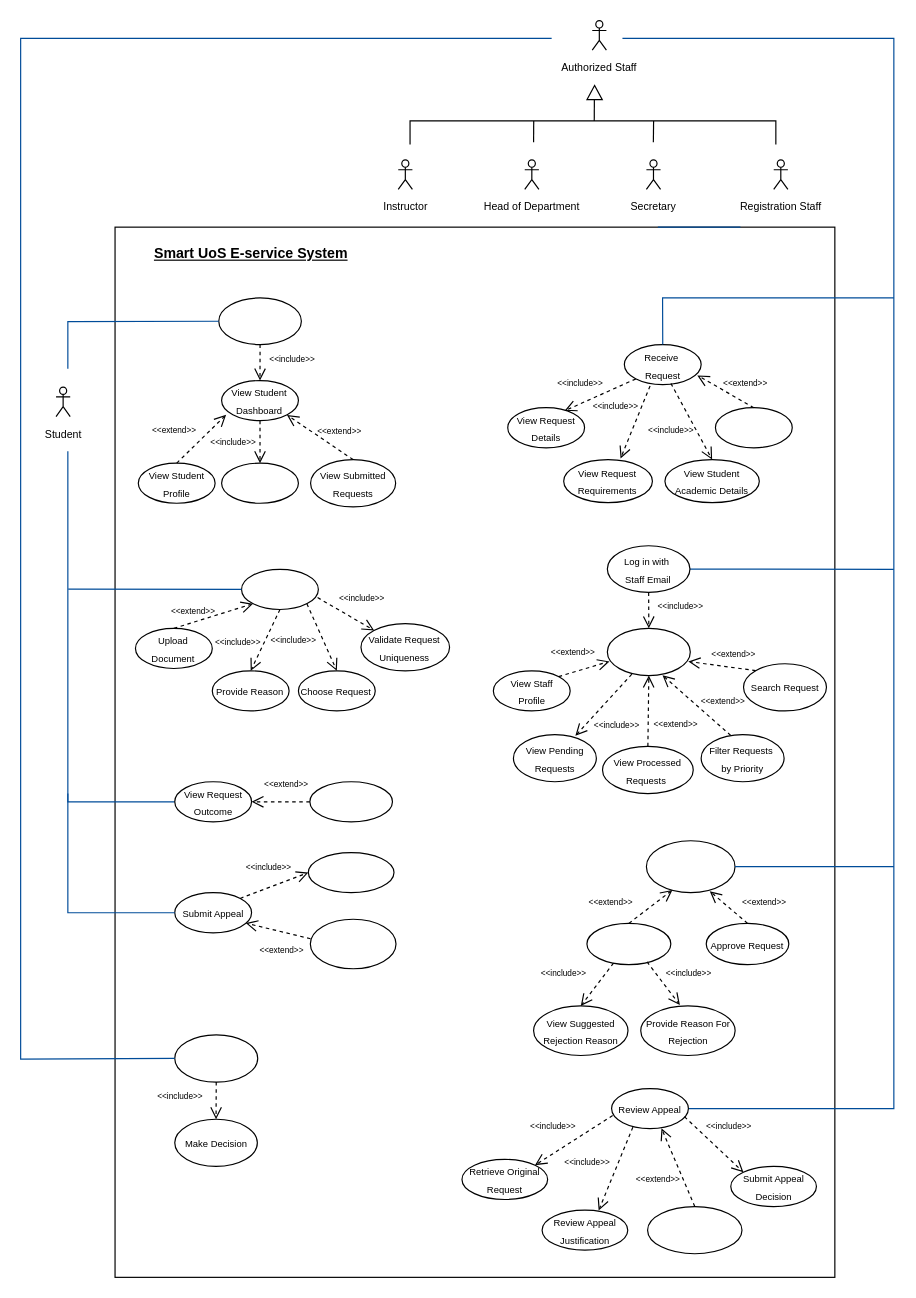
This 916x1298 diagram has some shape labels left out. The shapes that lost their labels are listed below. From the top down, each one's box as (x1, y1, x2, y2) in pixels, then its label:
(218, 297, 301, 345): Log in with Student Email
(714, 407, 792, 448): Forward for Review
(220, 462, 298, 503): View Request Options
(240, 568, 318, 609): Submit Request
(606, 627, 690, 676): View Staff Dashboard
(309, 781, 392, 822): View Rejection Reasoning
(307, 851, 394, 893): Provide Appeal Justification
(645, 840, 735, 893): Update Request Status
(309, 918, 396, 969): Attach Supporting Documents
(586, 922, 671, 965): Reject Request
(174, 1034, 258, 1082): View Forwarded Request
(646, 1205, 742, 1254): Evaluate Supporting Documents
